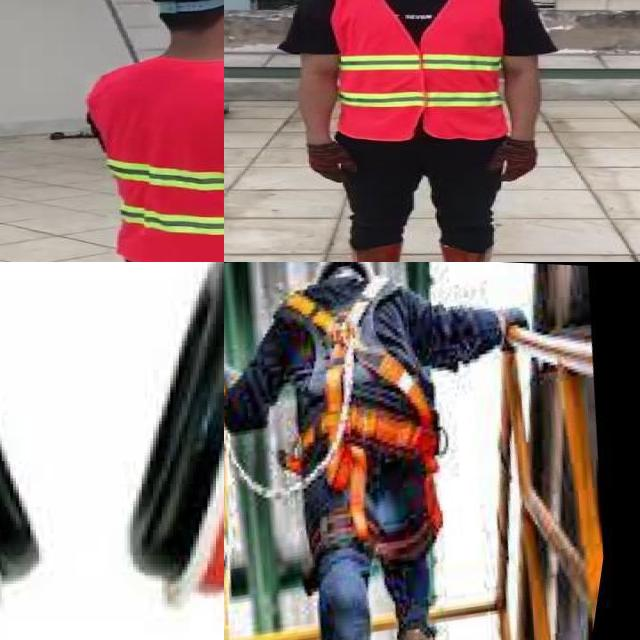Ear-protection: (115, 262, 224, 589)
Harness: (282, 272, 447, 538)
boots: (442, 241, 506, 262), (341, 241, 403, 262)
hand_glove: (305, 141, 359, 184), (488, 140, 538, 183)
person: (271, 0, 556, 262), (76, 0, 224, 262)
vest: (85, 59, 224, 262), (323, 0, 515, 141)
